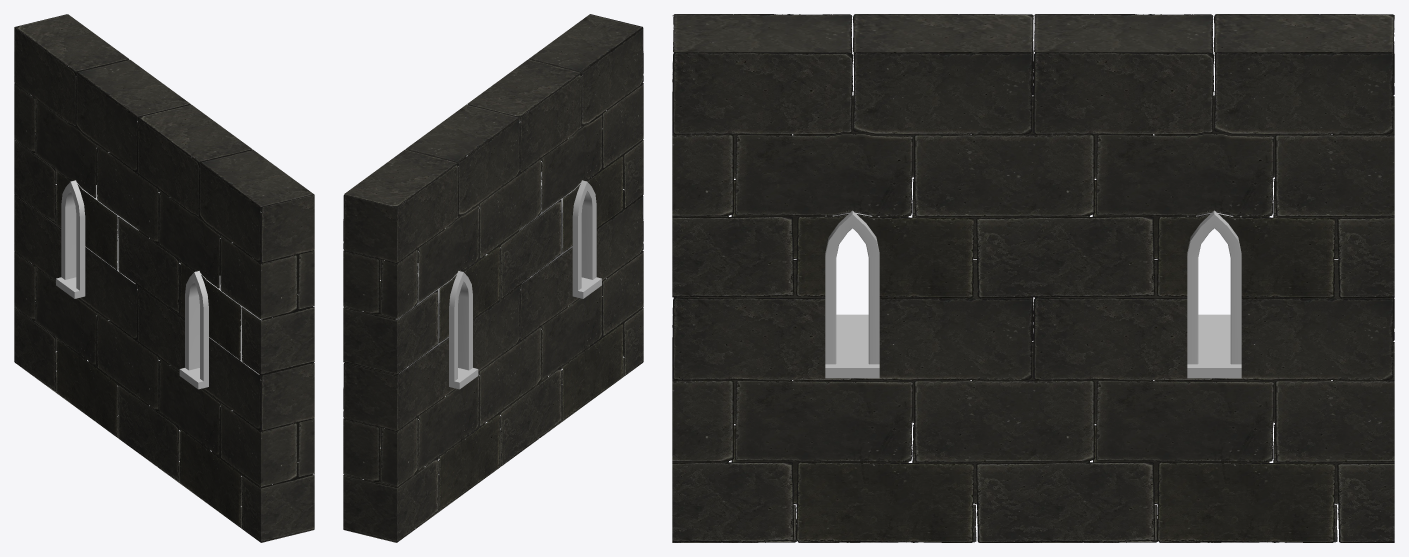
The picture shows the model from 3 angles, left to right: view 1: azimuth 30°, elevation 25°; view 2: azimuth 150°, elevation 25°; view 3: azimuth 270°, elevation 25°; orthographic projection. The views are drawn at different scales.
Visible parts, largest first — view 1: SM_Dowdun_Wall_8x6_03_LOD0; view 2: SM_Dowdun_Wall_8x6_03_LOD0; view 3: SM_Dowdun_Wall_8x6_03_LOD0.
Boxes of the visible parts, x1=… form: SM_Dowdun_Wall_8x6_03_LOD0: x1=14, y1=14, x2=314, y2=542; SM_Dowdun_Wall_8x6_03_LOD0: x1=343, y1=14, x2=643, y2=542; SM_Dowdun_Wall_8x6_03_LOD0: x1=672, y1=14, x2=1394, y2=542.
Bounding box in the file's own units: 1.4 × 6 × 8.
